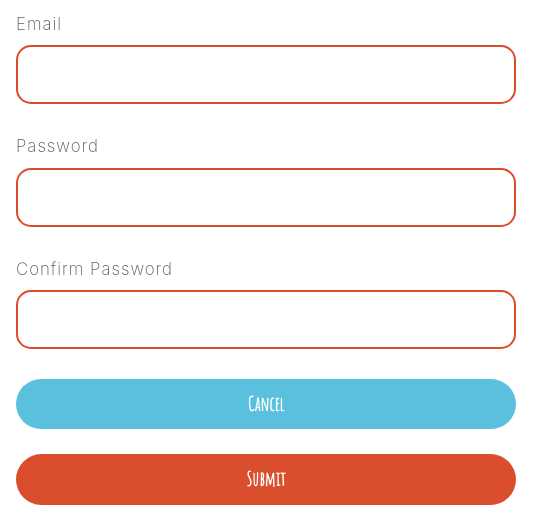
Test case: <SignUp /> password validation › sign up validation should catch error required passwords fields don't match
Note: don't match password and confirm password input texts
In the password field with test id "password": (266, 197) 16,168 -> 516,227, type "foodbite21"
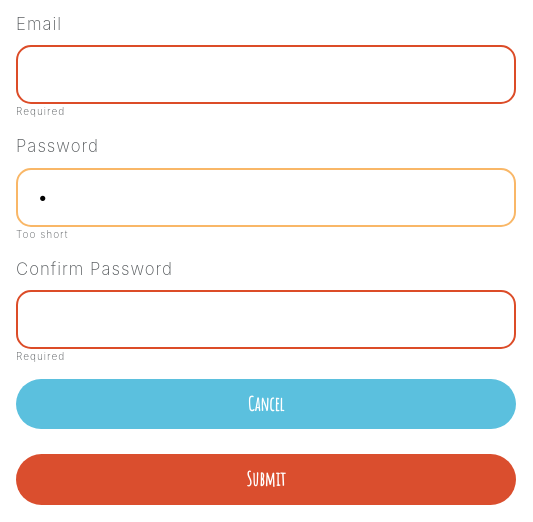
In the password field with test id "confirmPassword": (266, 320) 16,290 -> 516,349, type "foodbite22"
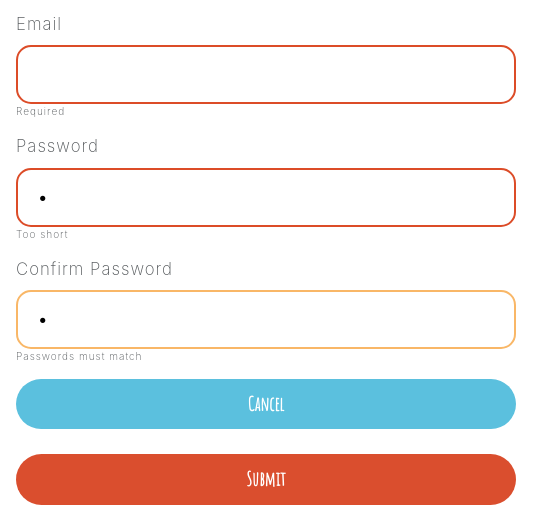
Now the text with test id "confirmPasswordError" reads "Passwords must match", box 16,350 -> 142,362
